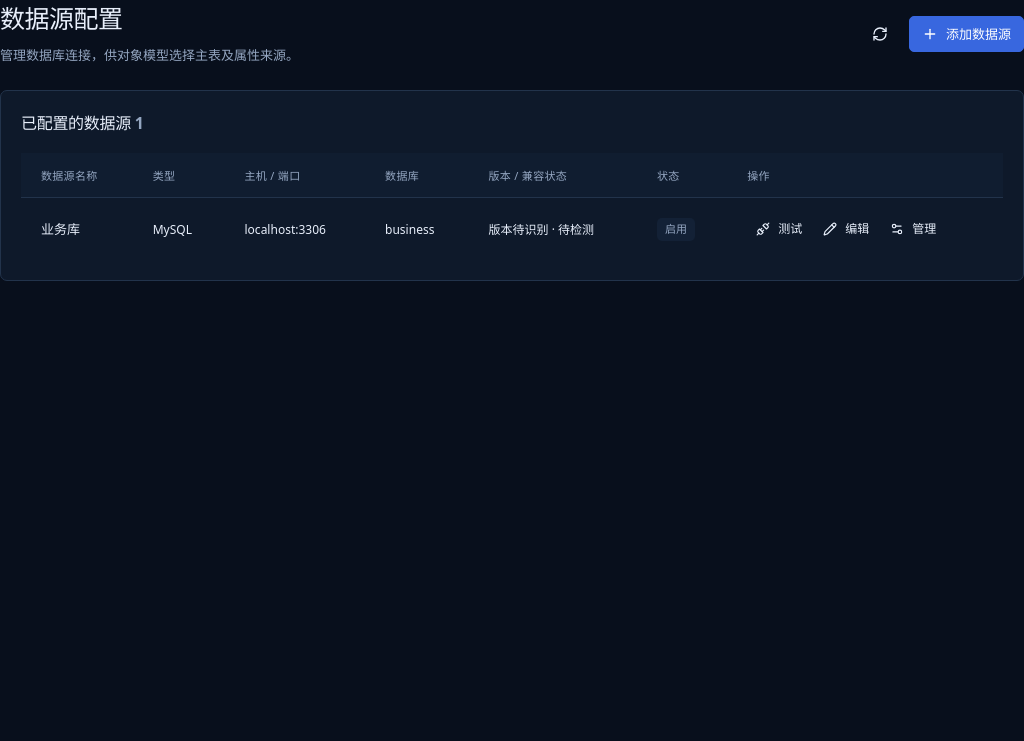
Test: 数据源表格与数据库管理 › 进入管理清除未保存密码，读取真实概览并只自动加载首表结构
This screenshot has width=1024, height=741.
Click the button with aria-label "编辑 业务库" at [846, 229], box left=814, top=212, right=878, bottom=246
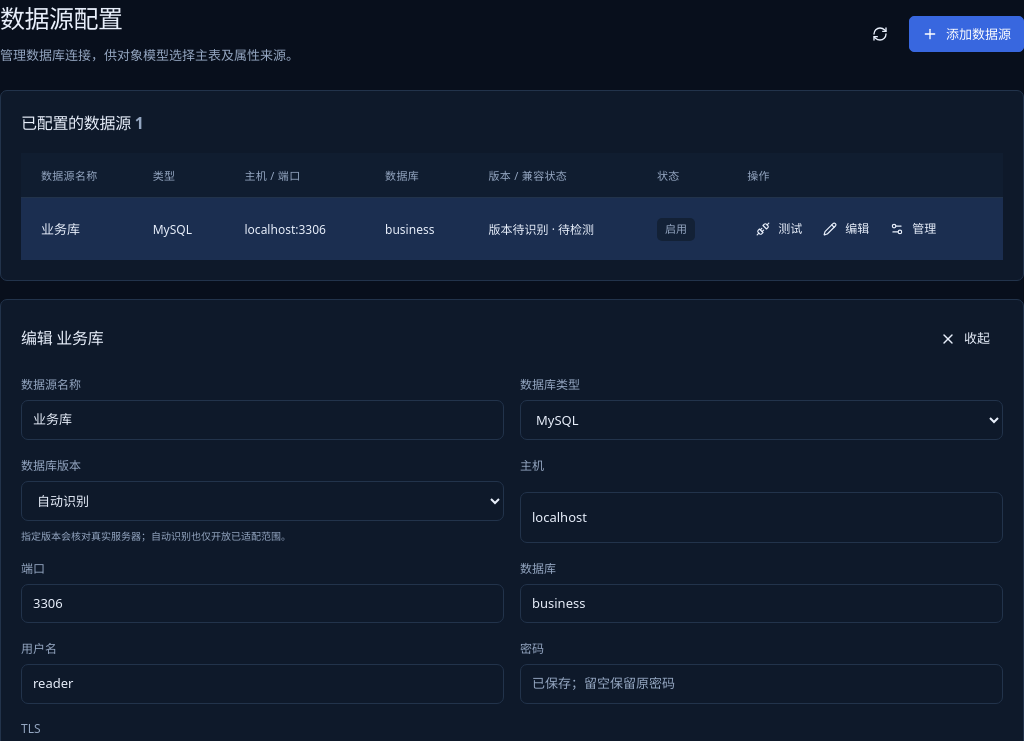
Type "unsaved-secret" into the password field named "数据库密码" at [762, 684], box left=520, top=664, right=1003, bottom=704
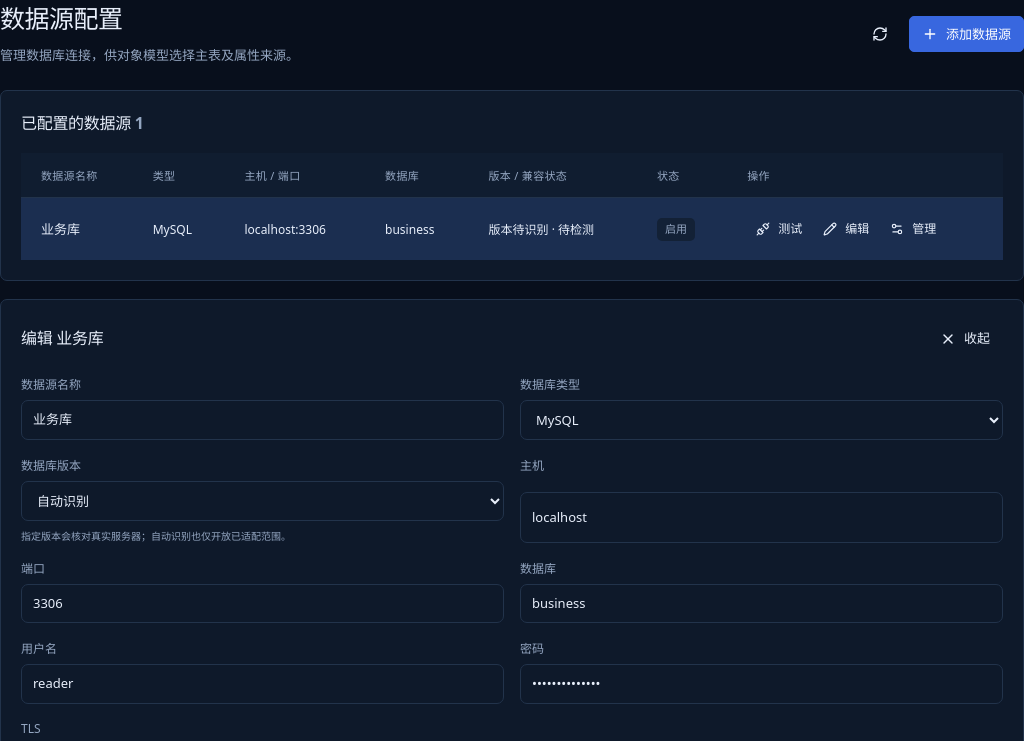
Click the button "管理" at [913, 229], box left=881, top=212, right=945, bottom=246
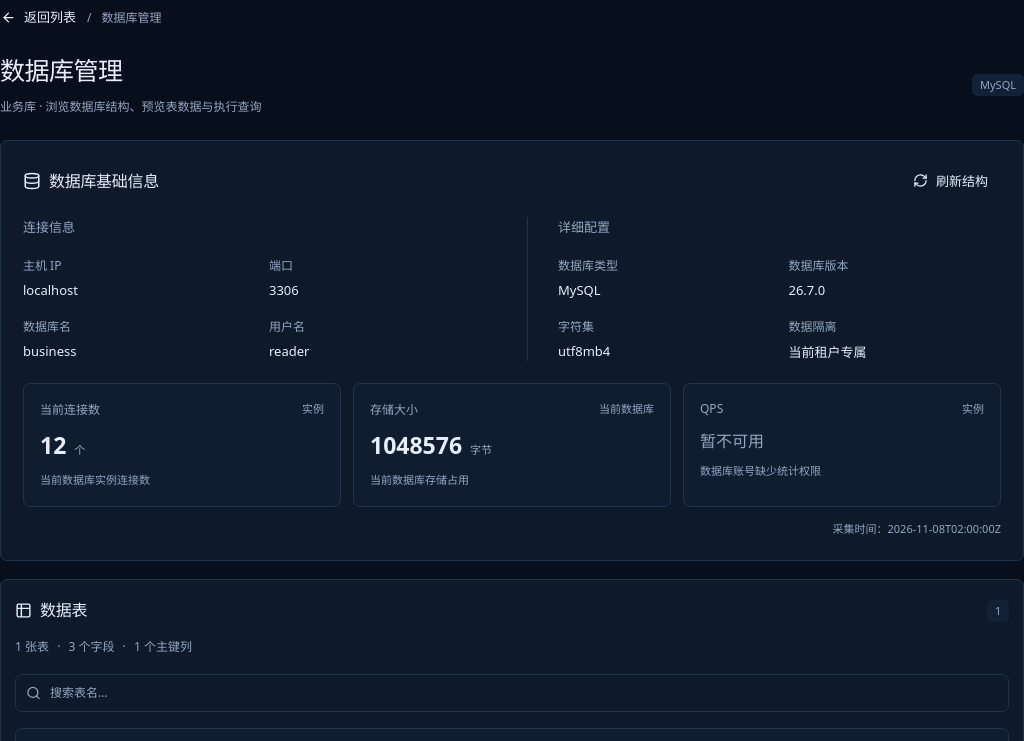
Result: the password field labelled "数据库密码" is gone
Result: the heading "数据库管理" is shown at left=0, top=53, right=122, bottom=87
Result: the element "数据库基础信息" shows "26.7.0" at left=788, top=281, right=825, bottom=299
Click the button with aria-label "返回数据源列表" at [38, 17], box left=0, top=0, right=77, bottom=34
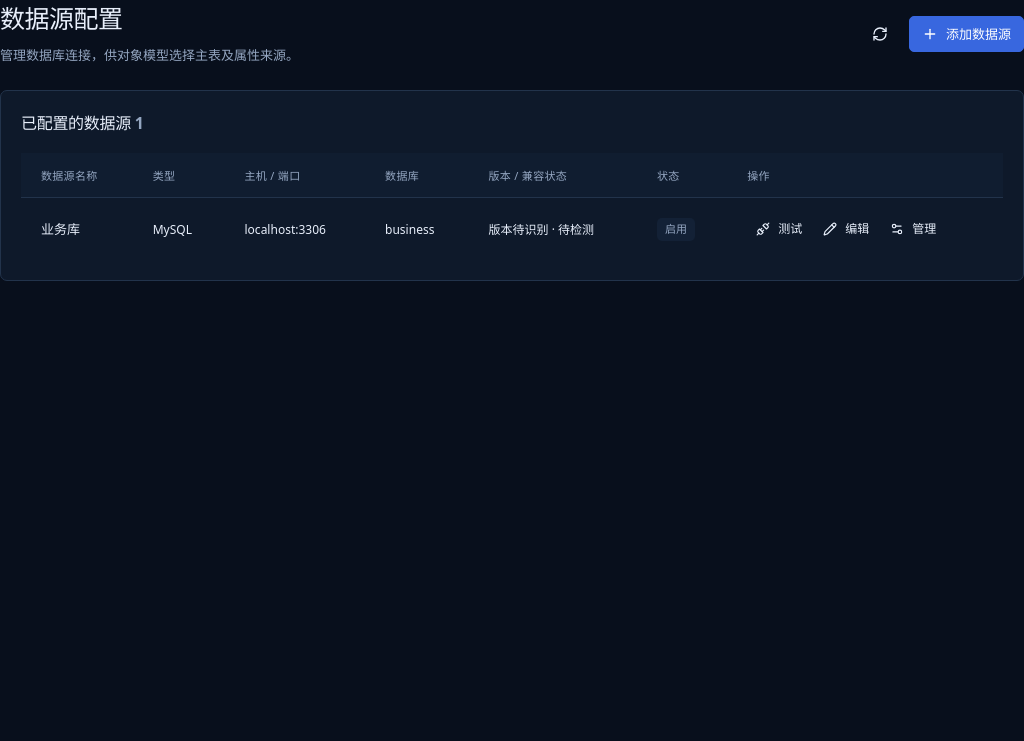
Result: the row "业务库 MySQL localhost:3306 business 版本待识别 · 待检测 启用 测试 编辑 管理" is shown at left=21, top=198, right=1003, bottom=260
